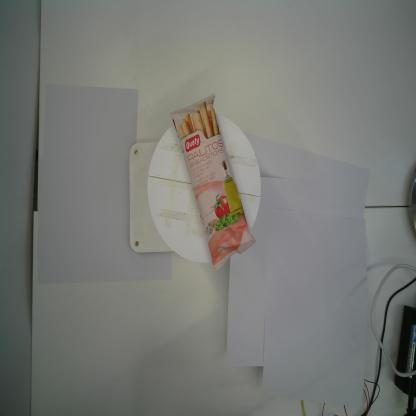Dessert: (168, 91, 258, 276)
